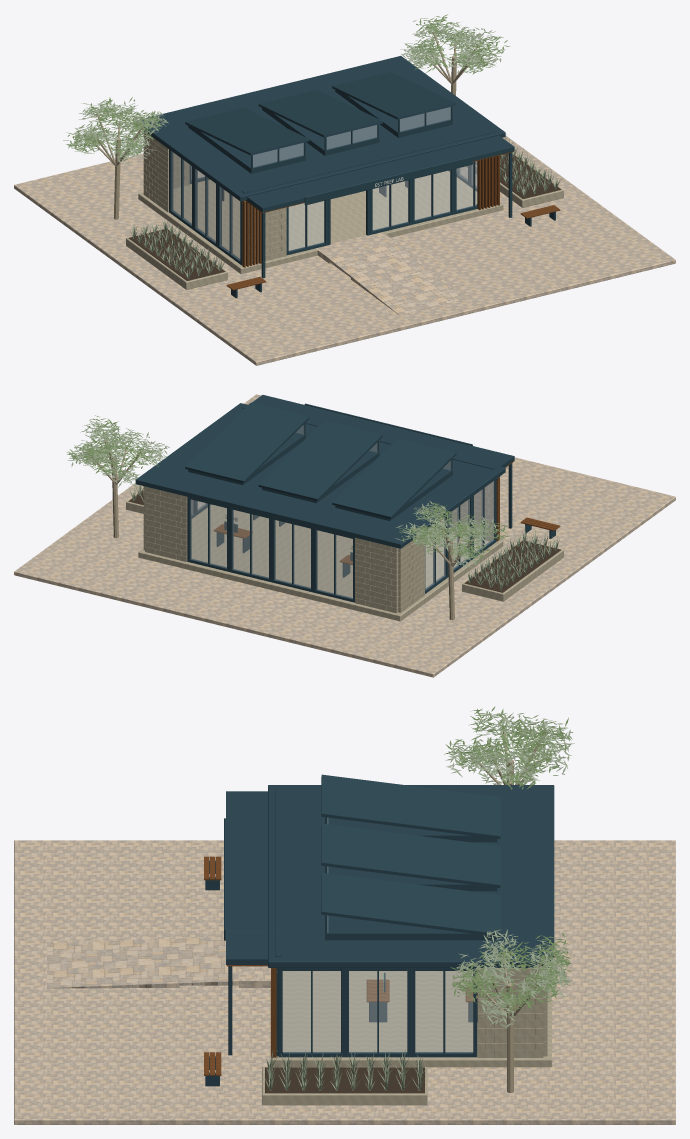
File: est.glb
The picture shows the model from 3 angles, top to bottom: view 1: azimuth 30°, elevation 25°; view 2: azimuth 150°, elevation 25°; view 3: azimuth 270°, elevation 25°; orthographic projection. The views are drawn at different scales.
Parts seen in each view (by area): view 1: Whole item paving.002, Roof slab.001, Foundation.001, Sloped laboratory rooflight.002, Sloped laboratory rooflight, Sloped laboratory rooflight.001, window-2m part.008, window-2m part.011, window-2m part.013, ramp-3p2x2 part.004, Mulch.010, ramp-3p2x2 part.003 (+26 smaller); view 2: Whole item paving.002, Roof slab.001, Foundation.001, Sloped laboratory rooflight, Sloped laboratory rooflight.001, Sloped laboratory rooflight.002, wall-2m part.006, wall-2m part.007, window-2m part.010, window-2m part.012, window-2m part.014, window-2m part.009 (+16 smaller); view 3: Whole item paving.002, Roof slab.001, Foundation.001, Sloped laboratory rooflight.001, Sloped laboratory rooflight, Sloped laboratory rooflight.002, window-2m part.017, window-2m part.019, window-2m part.021, wall-2m part.009, Mulch.011, ramp-3p2x2 part.004 (+14 smaller).
Boxes of the visible parts, x1,y1,x2,y2 form: Whole item paving.002: (14, 135, 675, 365); Roof slab.001: (138, 56, 505, 201); Foundation.001: (138, 171, 503, 273); Sloped laboratory rooflight.002: (332, 71, 456, 119); Sloped laboratory rooflight: (185, 107, 309, 155); Sloped laboratory rooflight.001: (258, 89, 382, 137); window-2m part.008: (286, 200, 327, 255); window-2m part.011: (370, 179, 411, 234); window-2m part.013: (412, 169, 453, 224); ramp-3p2x2 part.004: (351, 260, 441, 296); Mulch.010: (128, 229, 225, 280); ramp-3p2x2 part.003: (375, 279, 466, 315); Whole item paving.002: (14, 394, 675, 677); Roof slab.001: (135, 403, 505, 548); Foundation.001: (138, 504, 503, 621); Sloped laboratory rooflight: (332, 438, 456, 518); Sloped laboratory rooflight.001: (258, 420, 382, 500); Sloped laboratory rooflight.002: (185, 402, 309, 482); wall-2m part.006: (355, 537, 398, 613); wall-2m part.007: (145, 486, 187, 561); window-2m part.010: (271, 517, 313, 592); window-2m part.012: (229, 507, 271, 581); window-2m part.014: (187, 497, 229, 571); window-2m part.009: (313, 527, 354, 602); Whole item paving.002: (14, 840, 675, 1124); Roof slab.001: (268, 785, 554, 967); Foundation.001: (270, 968, 551, 1067); Sloped laboratory rooflight.001: (321, 823, 500, 887); Sloped laboratory rooflight: (321, 774, 500, 839); Sloped laboratory rooflight.002: (321, 872, 500, 936); window-2m part.017: (278, 968, 344, 1057); window-2m part.019: (345, 968, 411, 1057); window-2m part.021: (411, 968, 477, 1057); wall-2m part.009: (477, 968, 543, 1057); Mulch.011: (265, 1067, 424, 1093); ramp-3p2x2 part.004: (113, 938, 179, 987).
Bounding box in the file's own units: 20.39 × 5.07 × 20.
13 materials, 3 textured.
